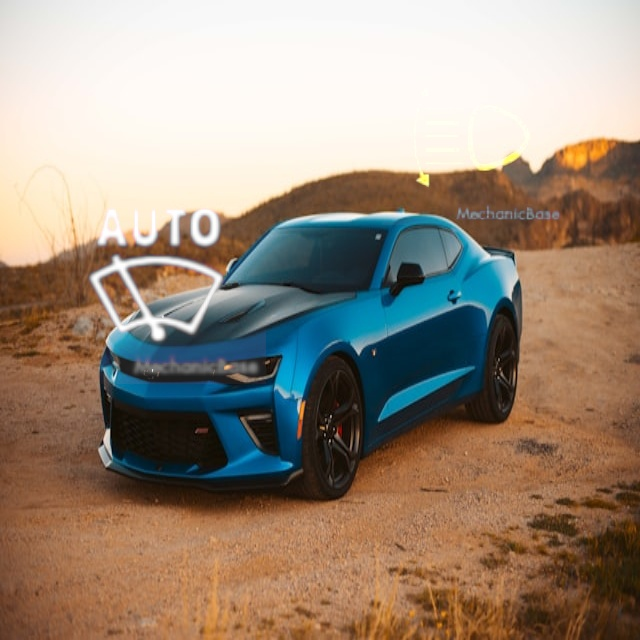symbol: (50, 168, 266, 384), (116, 52, 300, 236), (382, 44, 563, 225)
